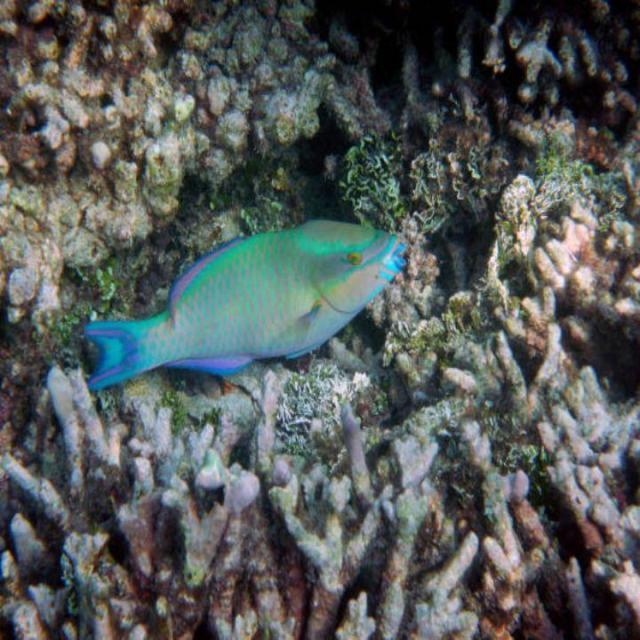Dead Coral: (0, 382, 640, 640), (0, 0, 175, 196)
